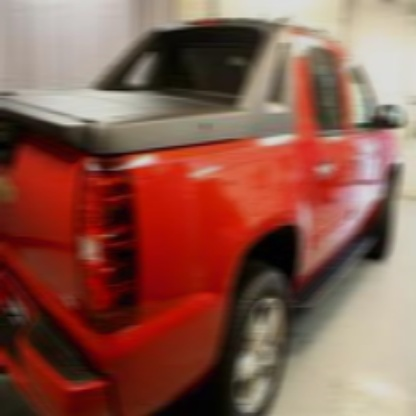Vehicle: (1, 16, 410, 414)
